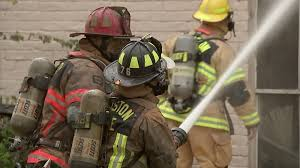emergent: (166, 1, 253, 166), (46, 6, 125, 167), (106, 41, 169, 168)
